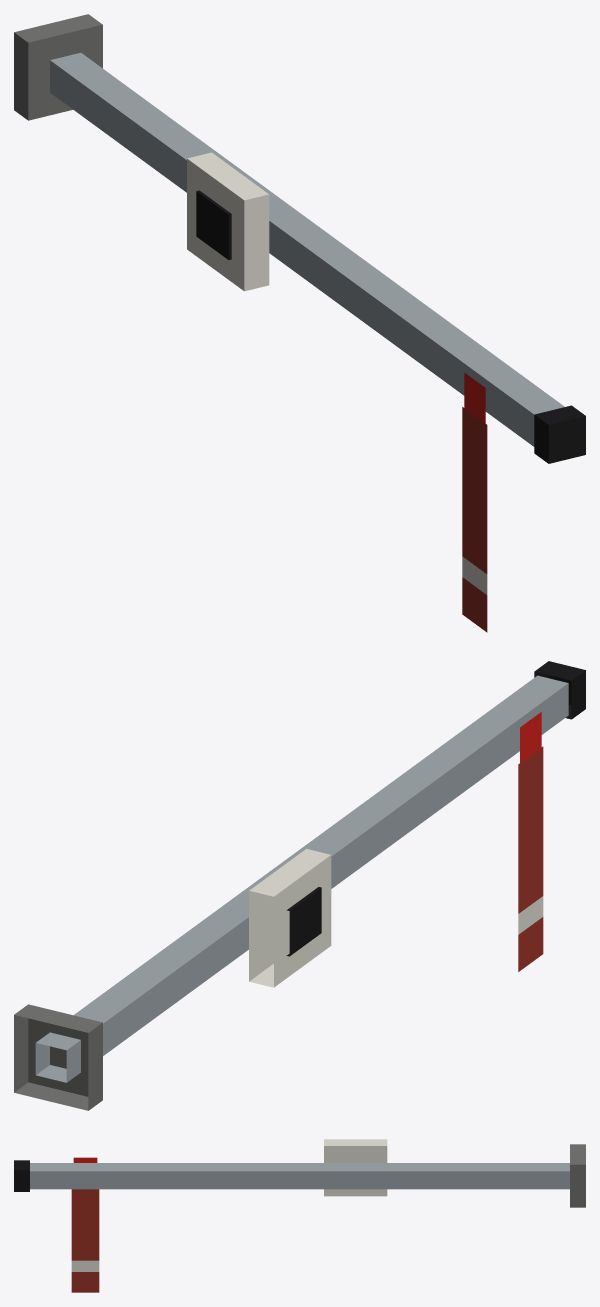
File: red.glb
3 renders of one model, top to bottom at view 1: azimuth 30°, elevation 25°; view 2: azimuth 150°, elevation 25°; view 3: azimuth 270°, elevation 25°, orthographic. The views are drawn at different scales.
Visible parts, largest first — view 1: signal_semaphore_exit_red; view 2: signal_semaphore_exit_red; view 3: signal_semaphore_exit_red.
Part boxes in pixels (<box>): signal_semaphore_exit_red: <box>14,14,585,632</box>; signal_semaphore_exit_red: <box>14,661,585,1110</box>; signal_semaphore_exit_red: <box>14,1139,585,1292</box>.
Size of the model in its own units: 1.35 by 4.15 by 14.4.
